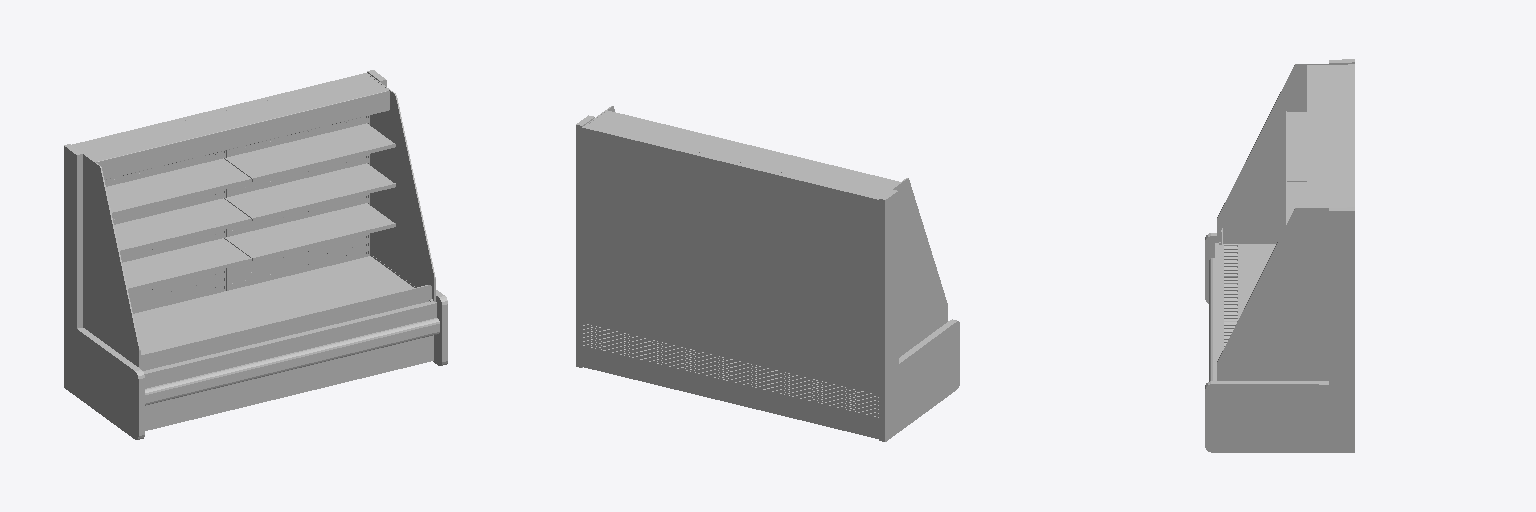
The model's file is fridgegh.obj.
3 renders of one model, left to right at view 1: azimuth 30°, elevation 25°; view 2: azimuth 150°, elevation 25°; view 3: azimuth 270°, elevation 25°, orthographic.
Visible parts, largest first — view 1: Cube.044_Cube.033, Cube.046_Cube.035, Cube.047_Cube.036, PARENT_Cube.031, Plane.286_Plane.148, Plane.285_Plane.145, Plane.289_Plane.150, Plane.296_Plane.156, Plane.308_Plane.168, Plane.302_Plane.162, Plane.293_Plane.153, Plane.299_Plane.159 (+2 smaller); view 2: PARENT_Cube.031, Cube.047_Cube.036, Plane.286_Plane.148, Cube.043_Cube.032; view 3: PARENT_Cube.031, Plane.285_Plane.145, Plane.286_Plane.148, Cube.047_Cube.036, Cube.044_Cube.033, Cube.043_Cube.032, Plane.293_Plane.153, Cube.045_Cube.034, Plane.296_Plane.156.
Boxes of the visible parts, <box> form: Cube.044_Cube.033: <box>133,256,439,430</box>; Cube.046_Cube.035: <box>105,115,369,313</box>; Cube.047_Cube.036: <box>76,76,389,179</box>; PARENT_Cube.031: <box>64,73,440,438</box>; Plane.286_Plane.148: <box>75,147,140,368</box>; Plane.285_Plane.145: <box>369,75,435,301</box>; Plane.289_Plane.150: <box>141,285,431,370</box>; Plane.296_Plane.156: <box>224,123,395,181</box>; Plane.308_Plane.168: <box>224,203,395,261</box>; Plane.302_Plane.162: <box>224,163,395,221</box>; Plane.293_Plane.153: <box>106,158,251,215</box>; Plane.299_Plane.159: <box>114,198,251,253</box>; PARENT_Cube.031: <box>576,125,959,440</box>; Cube.047_Cube.036: <box>588,110,899,196</box>; Plane.286_Plane.148: <box>881,178,947,357</box>; Cube.043_Cube.032: <box>576,115,959,441</box>; PARENT_Cube.031: <box>1207,64,1354,450</box>; Plane.285_Plane.145: <box>1217,208,1328,380</box>; Plane.286_Plane.148: <box>1217,64,1347,242</box>; Cube.047_Cube.036: <box>1307,65,1347,207</box>; Cube.044_Cube.033: <box>1209,243,1275,381</box>; Cube.043_Cube.032: <box>1205,59,1354,452</box>; Plane.293_Plane.153: <box>1286,111,1306,181</box>; Cube.045_Cube.034: <box>1224,244,1237,347</box>; Plane.296_Plane.156: <box>1286,181,1306,224</box>.
Bounding box in the file's own units: 2.41 × 1.8 × 1.01.